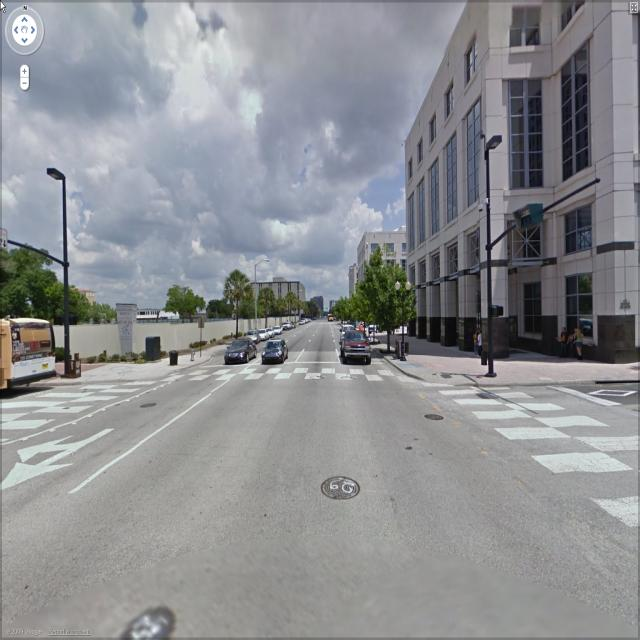b_1: (417, 10, 640, 335)
b_2: (335, 224, 417, 342), (235, 272, 313, 321)
